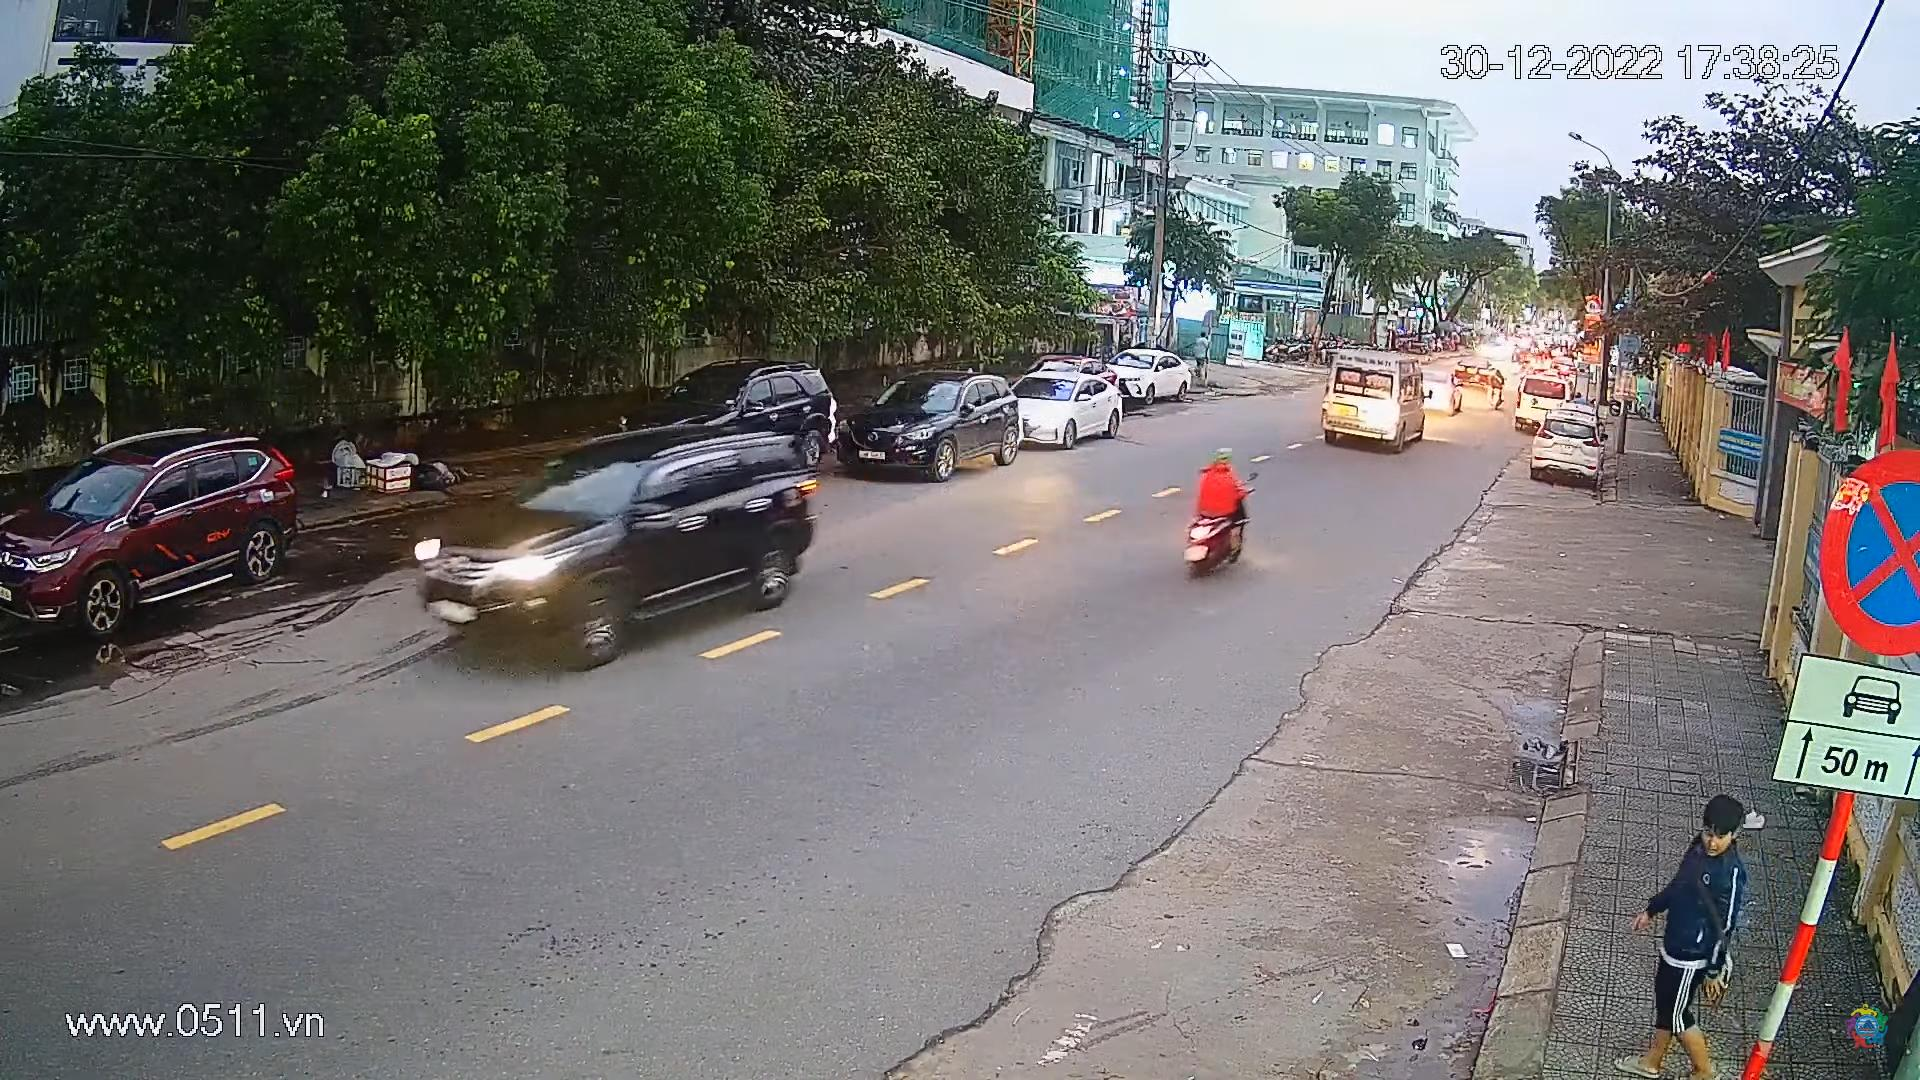car: (405, 417, 832, 686), (1, 414, 309, 642), (615, 361, 835, 465), (836, 364, 1014, 487), (1317, 339, 1427, 450), (1010, 373, 1135, 456), (1532, 411, 1609, 497), (1105, 344, 1192, 405), (1514, 357, 1560, 426)
